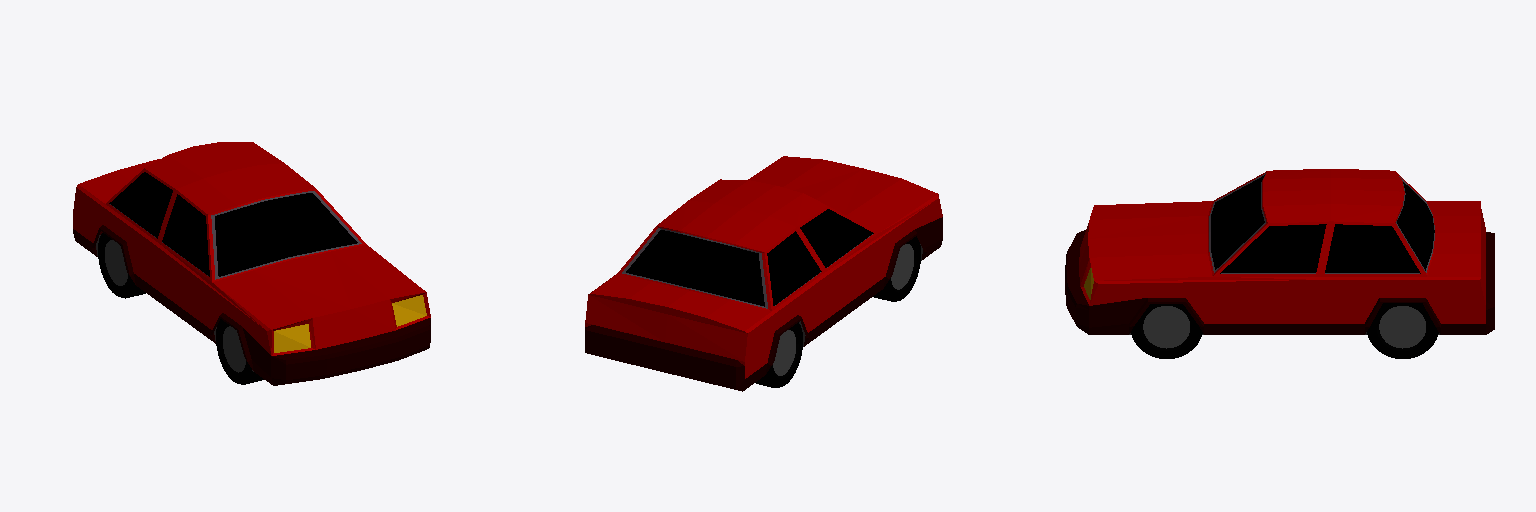
The model's file is car.obj.
3 views of the same model, side by side, from view 1: azimuth 30°, elevation 25°; view 2: azimuth 150°, elevation 25°; view 3: azimuth 270°, elevation 25° (orthographic).
Visible parts, largest first — view 1: Car_Cube; view 2: Car_Cube; view 3: Car_Cube.
Part boxes in pixels (left/top/right/bottom): Car_Cube: left=73, top=142, right=430, bottom=385; Car_Cube: left=585, top=156, right=942, bottom=391; Car_Cube: left=1065, top=169, right=1494, bottom=358.
Size of the model in its own units: 2.1 by 1.59 by 4.67.